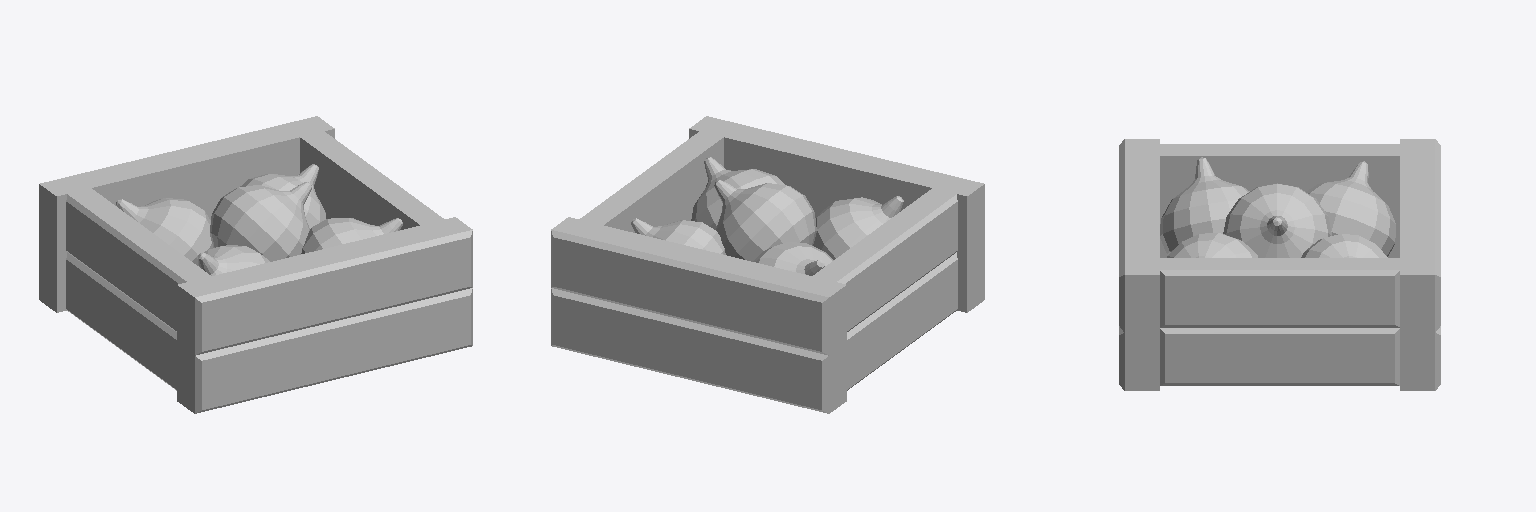
The model's file is crate_onions.obj.
3 views of the same model, side by side, from view 1: azimuth 30°, elevation 25°; view 2: azimuth 150°, elevation 25°; view 3: azimuth 270°, elevation 25° (orthographic).
Visible parts, largest first — view 1: crate_onions_Cube.231; view 2: crate_onions_Cube.231; view 3: crate_onions_Cube.231.
Boxes of the visible parts, <box> form: crate_onions_Cube.231: <box>39,116,472,413</box>; crate_onions_Cube.231: <box>551,116,984,413</box>; crate_onions_Cube.231: <box>1119,139,1440,390</box>.
Bounding box in the file's own units: 2 × 0.9234 × 2.